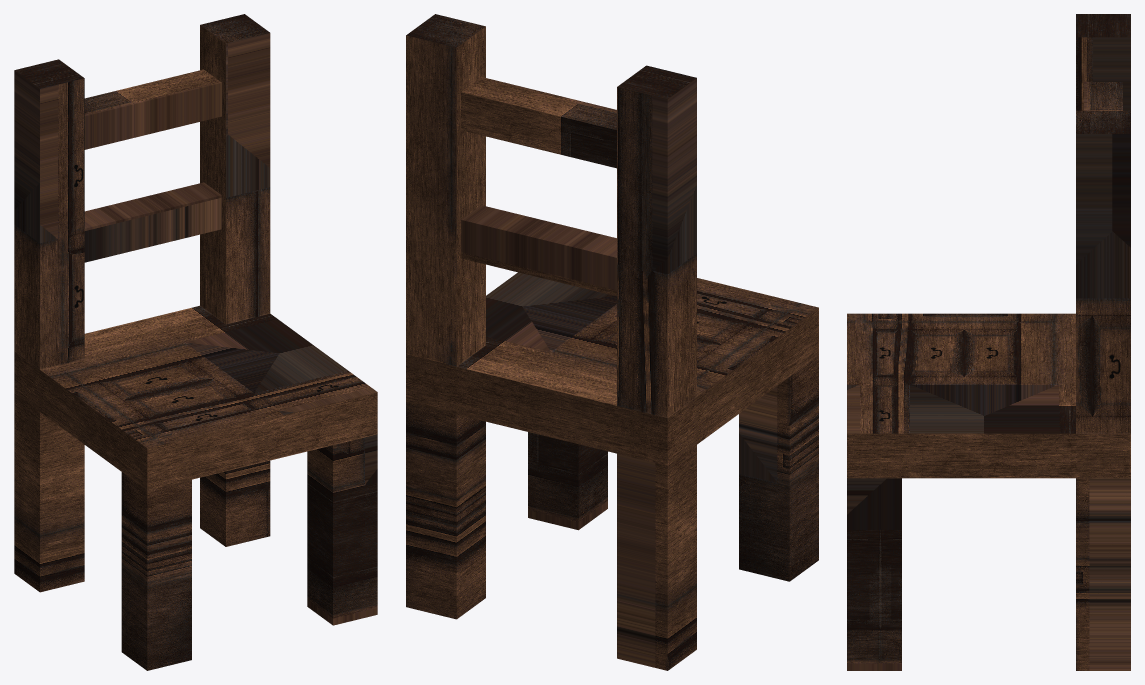
The model's file is Chair.fbx.
The picture shows the model from 3 angles, left to right: view 1: azimuth 30°, elevation 25°; view 2: azimuth 150°, elevation 25°; view 3: azimuth 270°, elevation 25°; orthographic projection. The views are drawn at different scales.
Parts seen in each view (by area): view 1: Cube.008; view 2: Cube.008; view 3: Cube.008.
Boxes of the visible parts, x1=… form: Cube.008: x1=14, y1=14, x2=377, y2=670; Cube.008: x1=406, y1=14, x2=818, y2=670; Cube.008: x1=847, y1=14, x2=1130, y2=670.
Size of the model in its own units: 1.2 by 2.5 by 1.2.
1 material, 1 textured.
